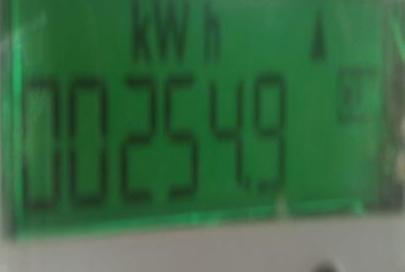.: (122, 0, 229, 71)
1: (17, 78, 66, 210), (64, 78, 112, 211)
3: (115, 79, 161, 207)
5: (206, 73, 248, 189)
6: (162, 71, 203, 199)
:: (249, 73, 293, 192)
